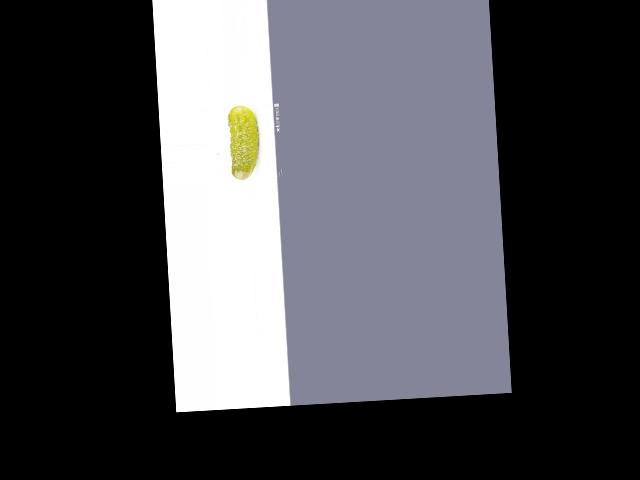cucumber: (227, 105, 261, 181)
